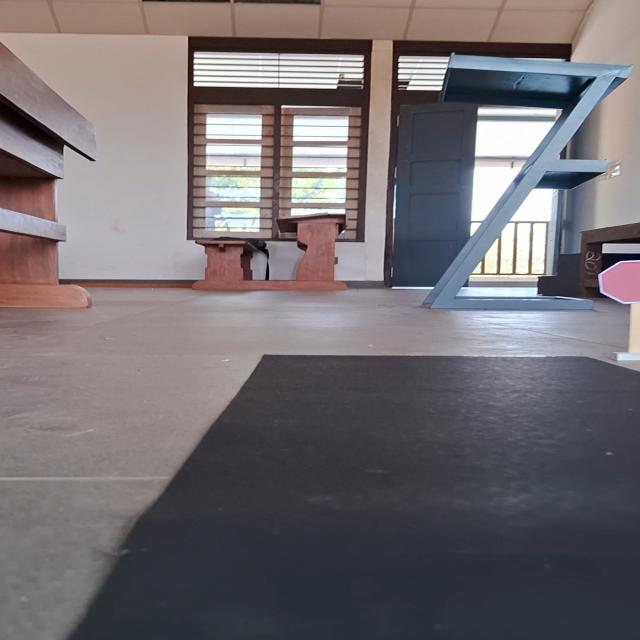Stop: (594, 258, 640, 305)
